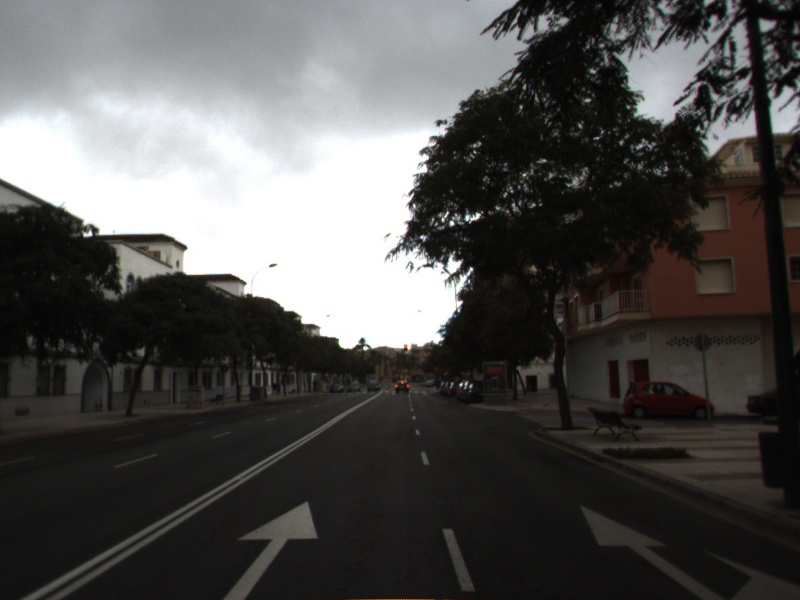STRAIGHT: (221, 498, 321, 600)
STRAIGHT_RIGHT: (577, 503, 800, 600)
